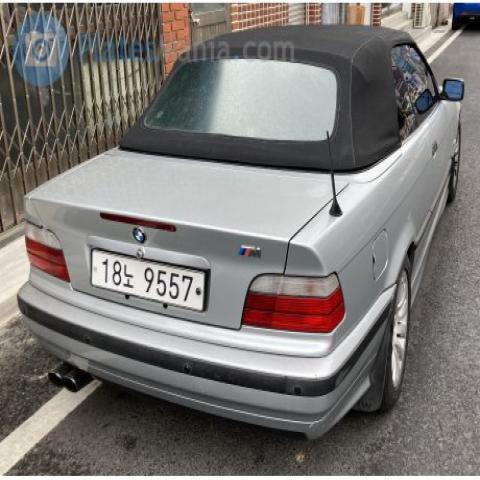LP: (80, 239, 220, 322)
